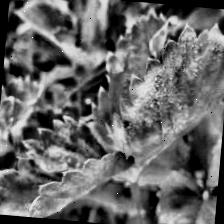Powdery Mildew Leaf: (101, 13, 224, 182)
